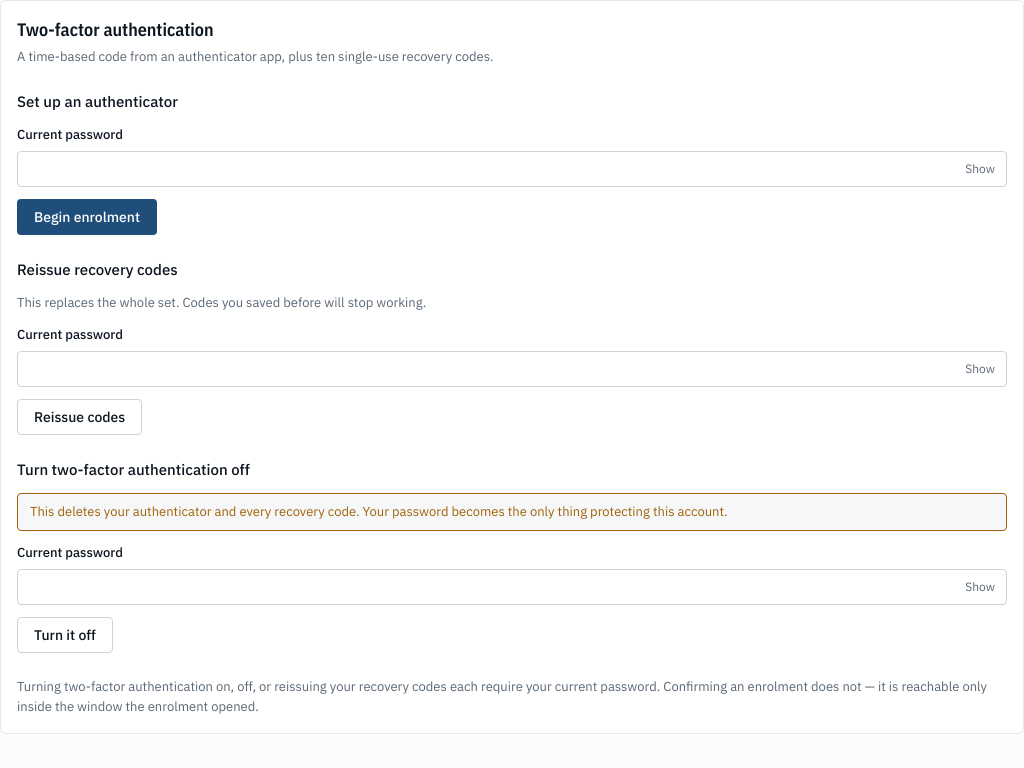
Test case: MfaPanel — reissuing and disabling › reissues the whole set and shows it once
Type "correct horse battery staple" into the password field labelled "Current password" below "Reissue recovery codes" at (512, 369), box left=17, top=351, right=1007, bottom=387
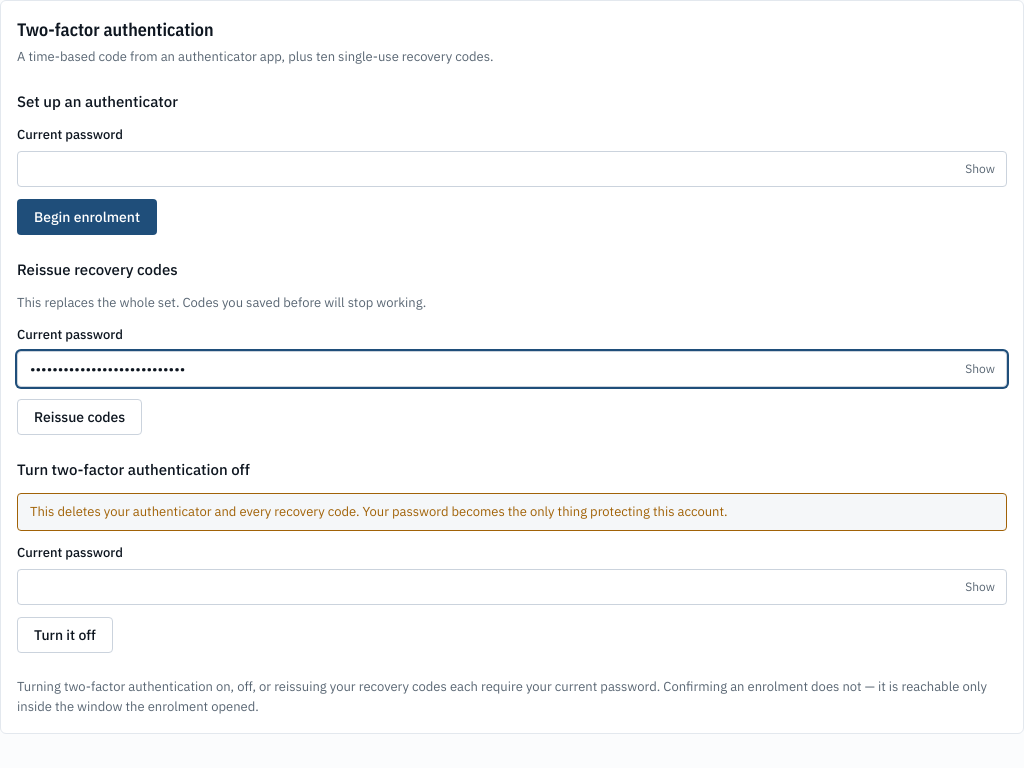
Click the button "Reissue codes" at (80, 417), box left=17, top=399, right=142, bottom=435
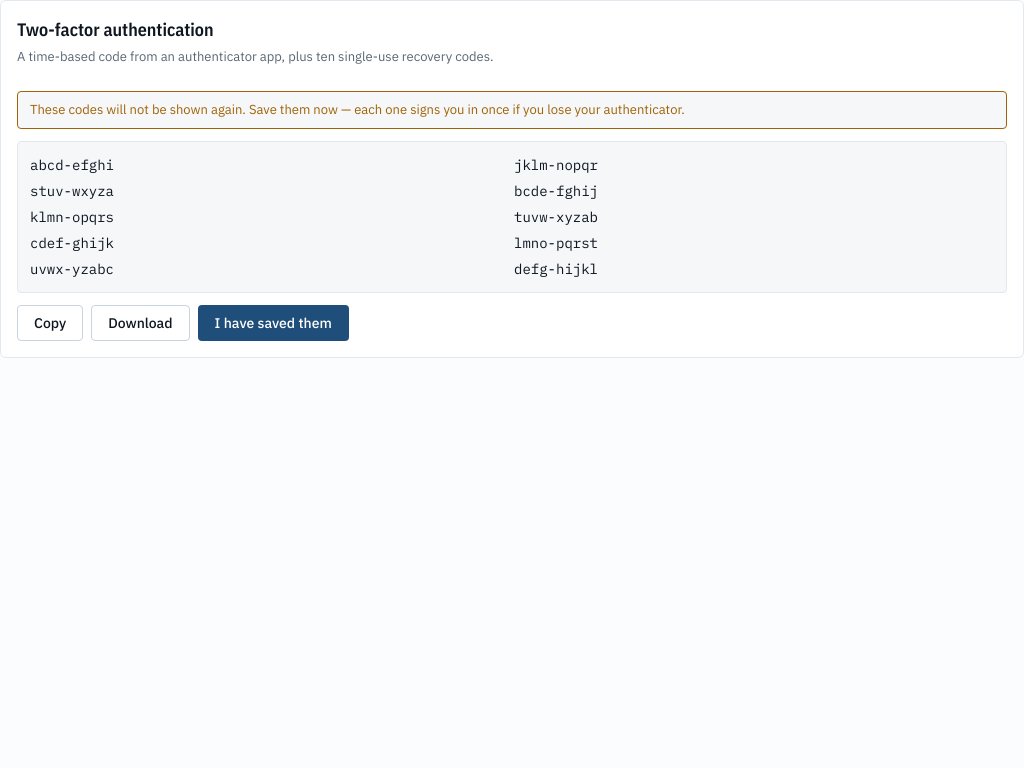
Expected: the element with test id "recovery-codes" is shown, left=17, top=91, right=1007, bottom=341
Expected: the text "These codes will not be shown again. Save them now — each one signs you in once if you lose your authenticator." is shown, left=30, top=101, right=685, bottom=118
